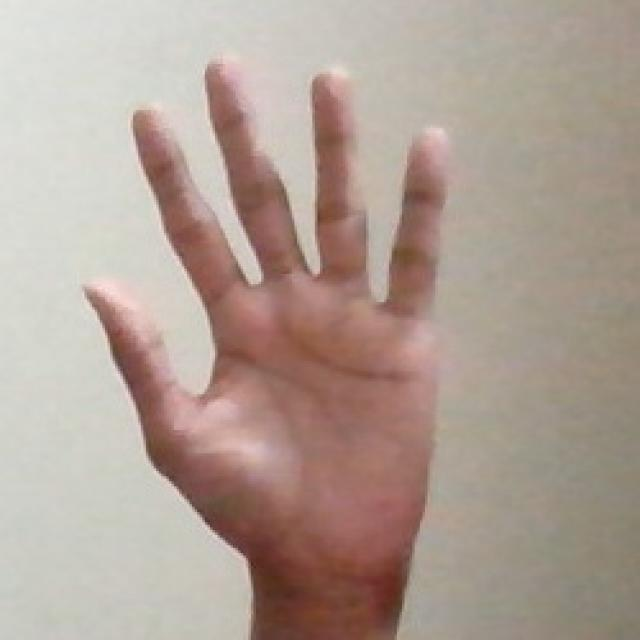Numeric-5: (91, 46, 473, 615)
